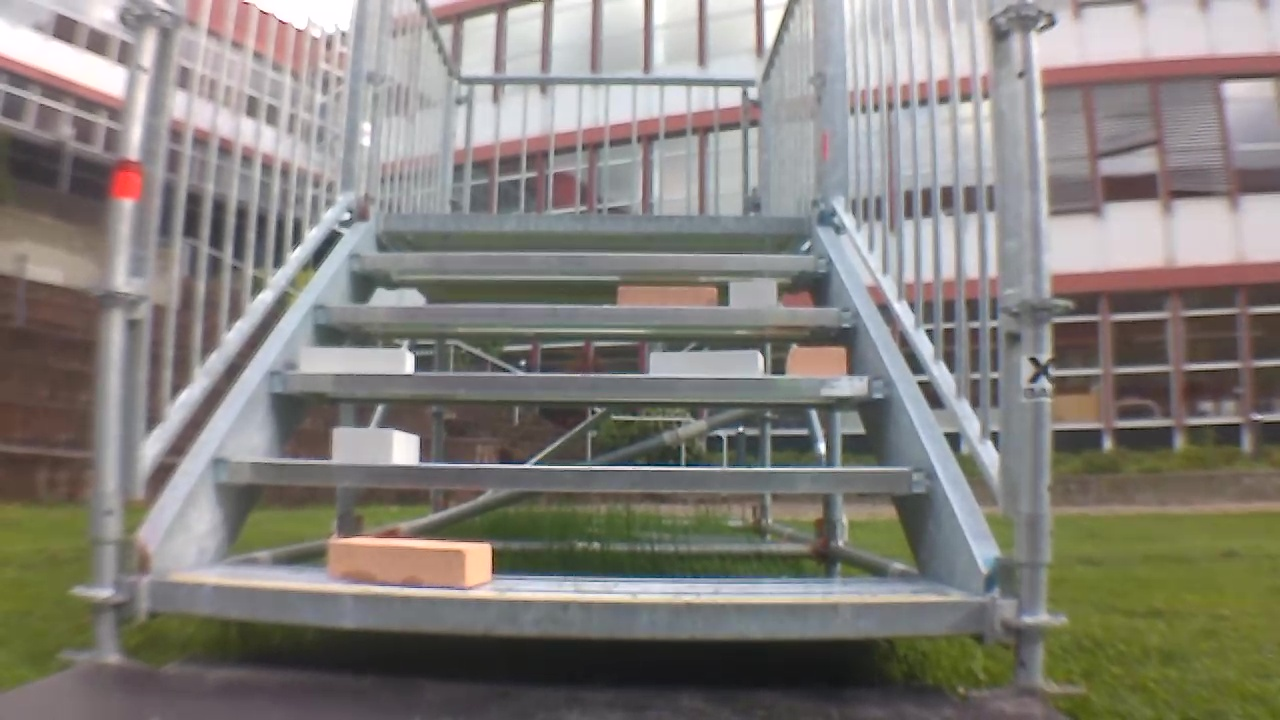brick: (329, 537, 490, 588), (335, 427, 419, 464), (299, 347, 414, 374), (650, 351, 763, 376), (618, 285, 717, 304), (788, 346, 846, 375), (729, 281, 774, 306)
edge: (151, 580, 982, 637), (216, 459, 929, 492), (269, 373, 892, 399), (312, 305, 858, 326), (350, 252, 829, 271), (377, 213, 809, 232)
stairs: (85, 1, 1071, 695)
steps: (136, 206, 996, 655)
